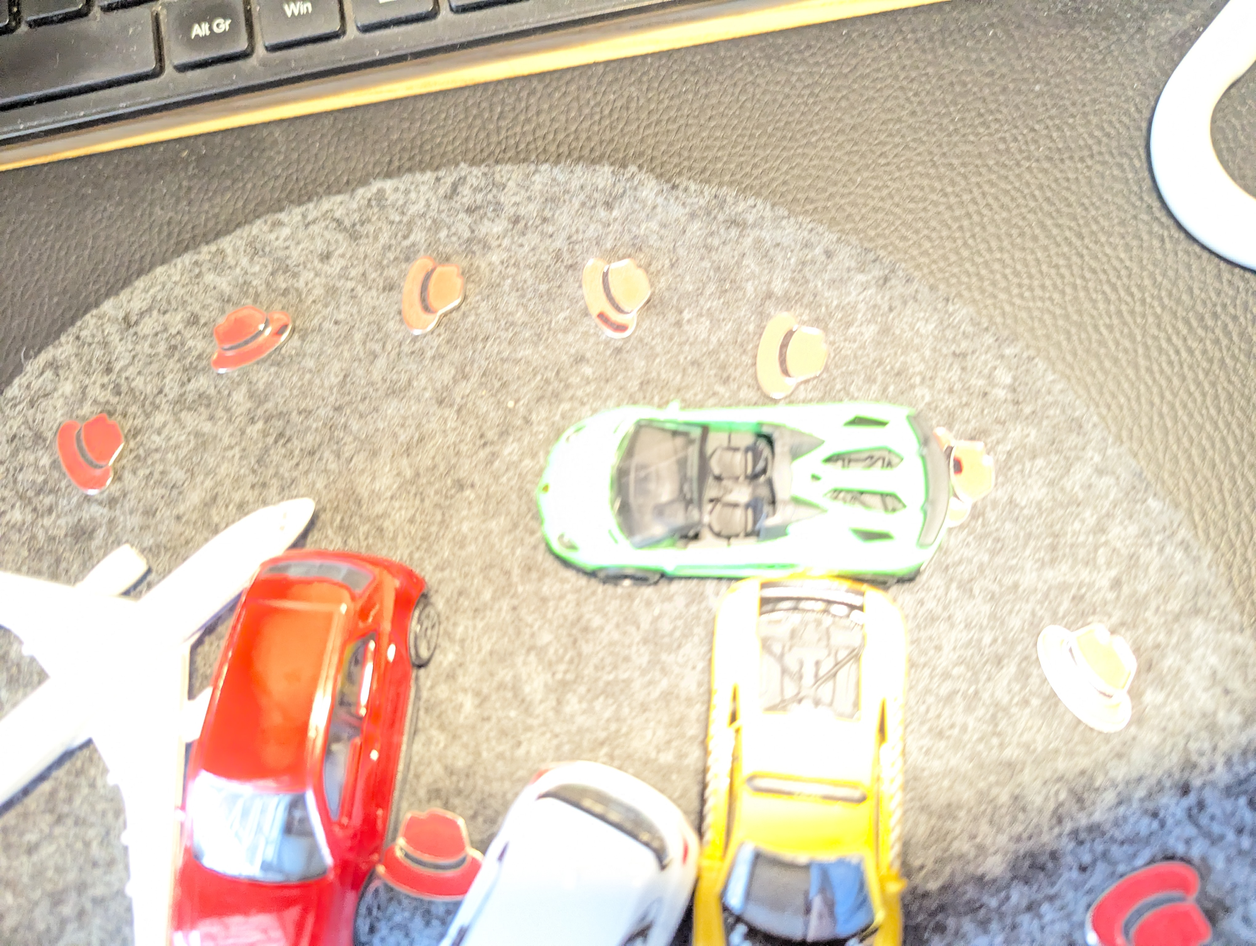Airplane: (0, 465, 354, 946)
Car: (161, 530, 447, 946), (520, 377, 960, 617), (686, 567, 917, 946), (793, 565, 800, 630)
Red-Hat: (1022, 609, 1163, 759), (371, 795, 501, 927), (1054, 841, 1217, 946), (743, 293, 848, 419), (909, 408, 1007, 535), (570, 239, 670, 358), (39, 400, 143, 512), (200, 283, 303, 381), (392, 238, 482, 348)
Scratch: (591, 306, 641, 348), (945, 451, 979, 479), (271, 319, 297, 342)
